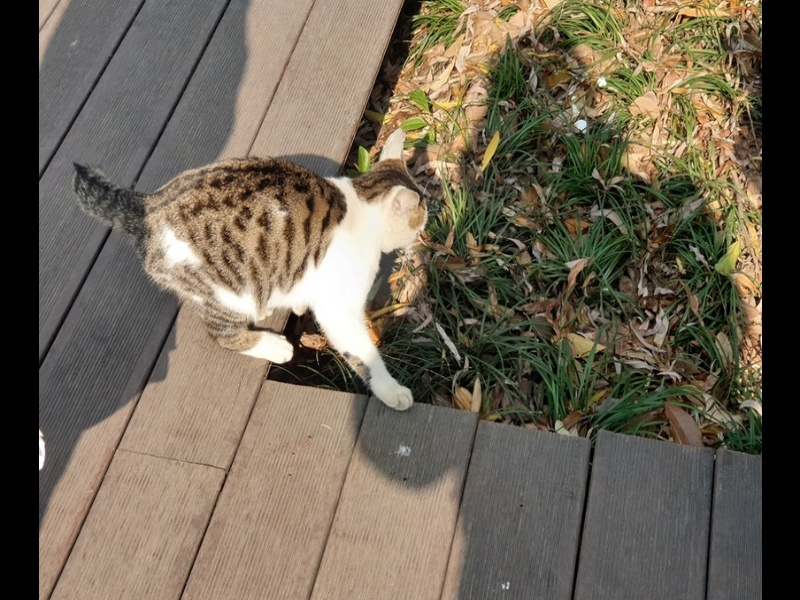cat: (66, 145, 430, 412)
